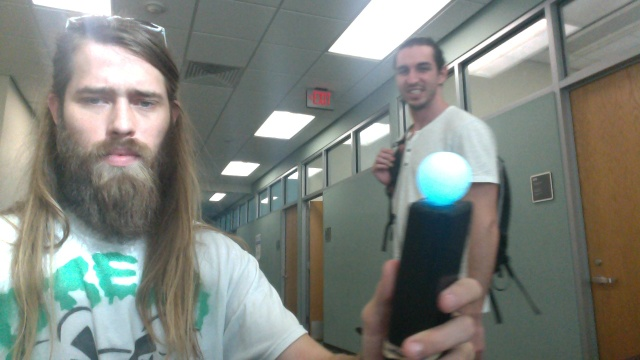wand: (418, 152, 471, 206)
